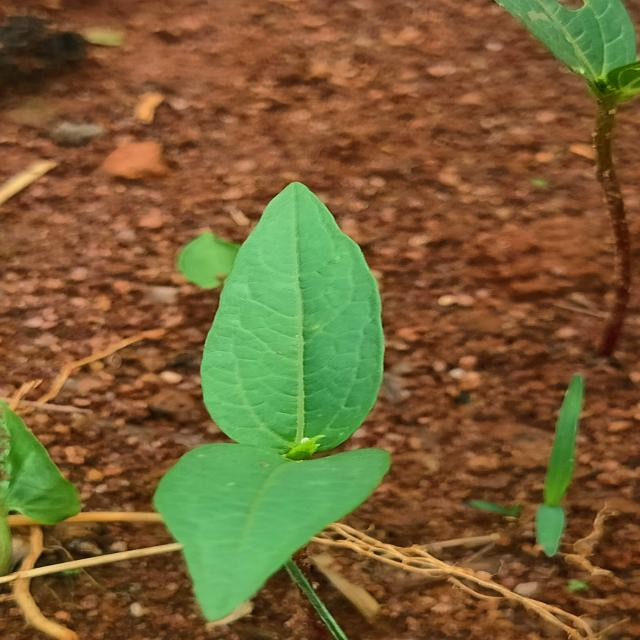Black gram_healthy: (205, 180, 381, 458), (154, 444, 388, 626)
